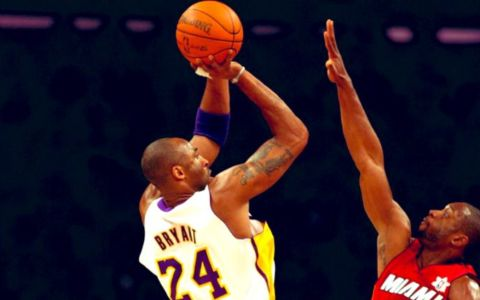baloncesto: (175, 1, 244, 65)
